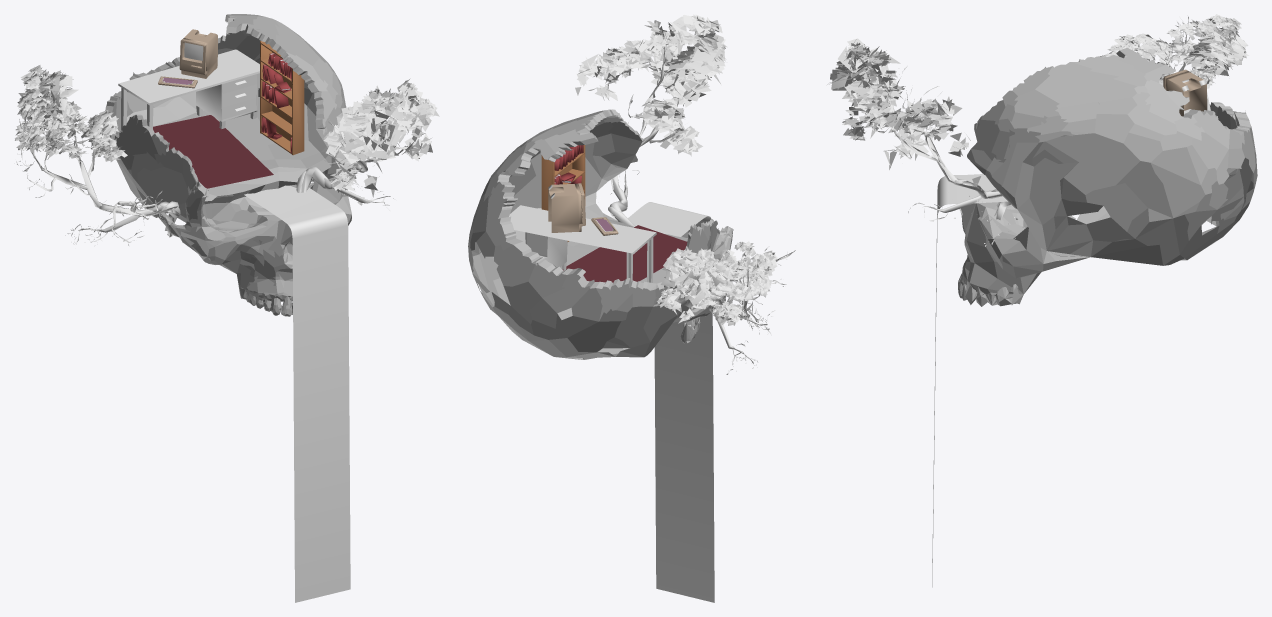
The model's file is skull.glb.
3 views of the same model, side by side, from view 1: azimuth 30°, elevation 25°; view 2: azimuth 150°, elevation 25°; view 3: azimuth 270°, elevation 25° (orthographic). The views are drawn at different scales.
Parts seen in each view (by area): view 1: CANEO_decimated_100K.001, Cube, Tilt Brush.10137_0.001, Tilt Brush.10137_0.002, Desk, carpet, Tilt Brush.8769_0.001, Tilt Brush.8769, Shelf_Right_board, mac2, mac1; view 2: CANEO_decimated_100K.001, Cube, Tilt Brush.10137_0.001, Tilt Brush.10137_0.002, Desk, carpet, mac1, Tilt Brush.8769, Tilt Brush.8769_0.001, Shelf_Left_board; view 3: CANEO_decimated_100K.001, Tilt Brush.10137_0.001, Tilt Brush.10137_0.002, Tilt Brush.8769, Cube, mac1.
Boxes of the visible parts, left/top/right/bottom form: CANEO_decimated_100K.001: left=105, top=14, right=351, bottom=316; Cube: left=244, top=185, right=350, bottom=602; Tilt Brush.10137_0.001: left=323, top=78, right=439, bottom=197; Tilt Brush.10137_0.002: left=15, top=65, right=127, bottom=161; Desk: left=118, top=49, right=259, bottom=132; carpet: left=153, top=115, right=273, bottom=188; Tilt Brush.8769_0.001: left=15, top=101, right=180, bottom=248; Tilt Brush.8769: left=296, top=94, right=407, bottom=210; Shelf_Right_board: left=292, top=68, right=304, bottom=155; mac2: left=179, top=39, right=207, bottom=78; mac1: left=183, top=29, right=217, bottom=76; CANEO_decimated_100K.001: left=468, top=109, right=733, bottom=359; Cube: left=628, top=202, right=714, bottom=602; Tilt Brush.10137_0.001: left=575, top=14, right=727, bottom=156; Tilt Brush.10137_0.002: left=657, top=241, right=777, bottom=325; Desk: left=509, top=205, right=656, bottom=282; carpet: left=562, top=225, right=687, bottom=282; mac1: left=548, top=183, right=582, bottom=232; Tilt Brush.8769: left=608, top=47, right=687, bottom=226; Tilt Brush.8769_0.001: left=688, top=246, right=795, bottom=374; Shelf_Left_board: left=541, top=155, right=554, bottom=210; CANEO_decimated_100K.001: left=958, top=47, right=1257, bottom=306; Tilt Brush.10137_0.001: left=827, top=38, right=980, bottom=186; Tilt Brush.10137_0.002: left=1103, top=14, right=1249, bottom=88; Tilt Brush.8769: left=871, top=66, right=1010, bottom=221; Cube: left=932, top=174, right=1007, bottom=587; mac1: left=1165, top=71, right=1207, bottom=116.
Size of the model in its own units: 2.51 by 4.32 by 3.05.
